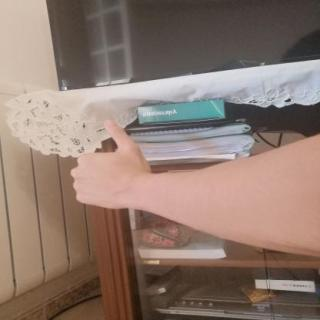ALIF: (59, 112, 162, 216)
